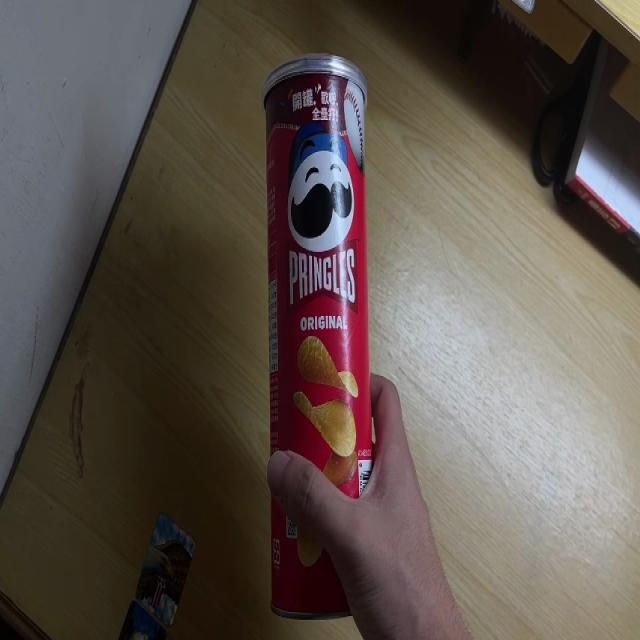Pringles: (262, 50, 378, 622)
